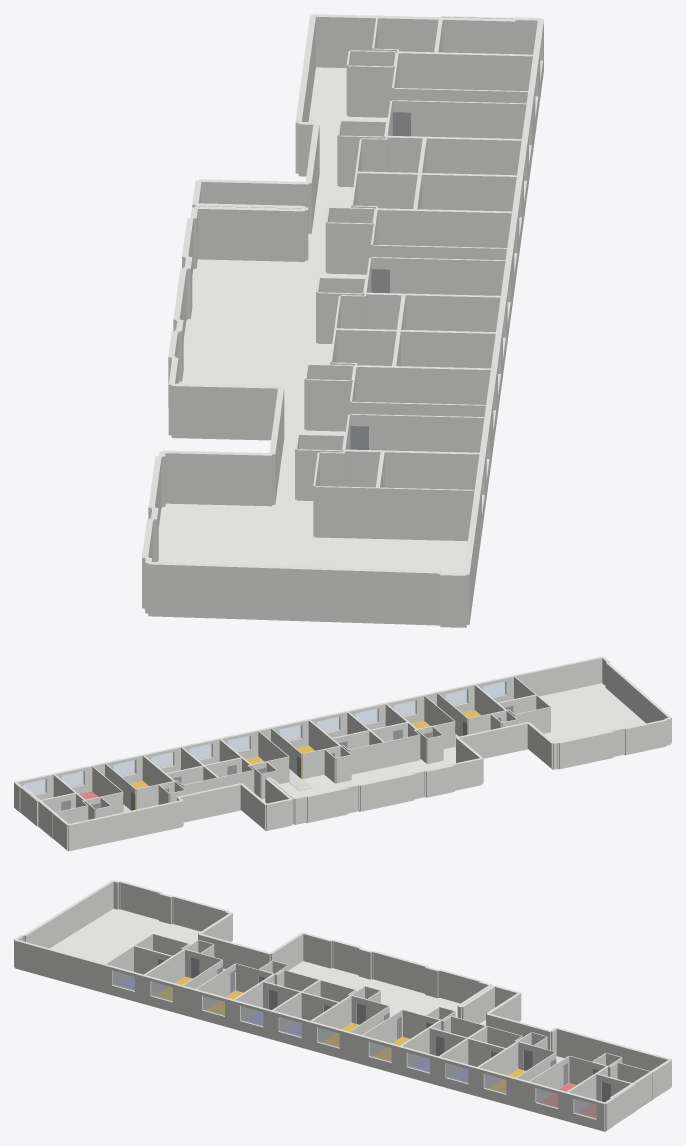
File: D3_large_shop_152418_it1.glb
The picture shows the model from 3 angles, top to bottom: view 1: azimuth 30°, elevation 25°; view 2: azimuth 150°, elevation 25°; view 3: azimuth 270°, elevation 25°; orthographic projection. The views are drawn at different scales.
Visible parts, largest first — view 1: geometry_3, geometry_0, geometry_9; view 2: geometry_3, geometry_0, geometry_8, geometry_9, geometry_5, geometry_1; view 3: geometry_3, geometry_0, geometry_8, geometry_9, geometry_5, geometry_4, geometry_2.
Boxes of the visible parts, box(x1,y1,x2,y2) form: geometry_3: box(142, 14, 543, 626); geometry_0: box(145, 67, 467, 627); geometry_9: box(350, 100, 412, 487); geometry_3: box(14, 656, 671, 850); geometry_0: box(20, 683, 670, 851); geometry_8: box(23, 681, 505, 794); geometry_9: box(61, 706, 512, 811); geometry_5: box(130, 710, 480, 809); geometry_1: box(123, 733, 458, 812); geometry_3: box(14, 880, 671, 1130); geometry_0: box(15, 908, 670, 1131); geometry_8: box(112, 971, 596, 1118); geometry_9: box(157, 957, 610, 1102); geometry_5: box(155, 976, 525, 1092); geometry_4: box(116, 975, 468, 1082); geometry_2: box(540, 1083, 652, 1117).
Size of the model in its own units: 47.85 by 2.85 by 59.43.
